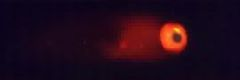keyhole: (171, 29, 185, 44)
